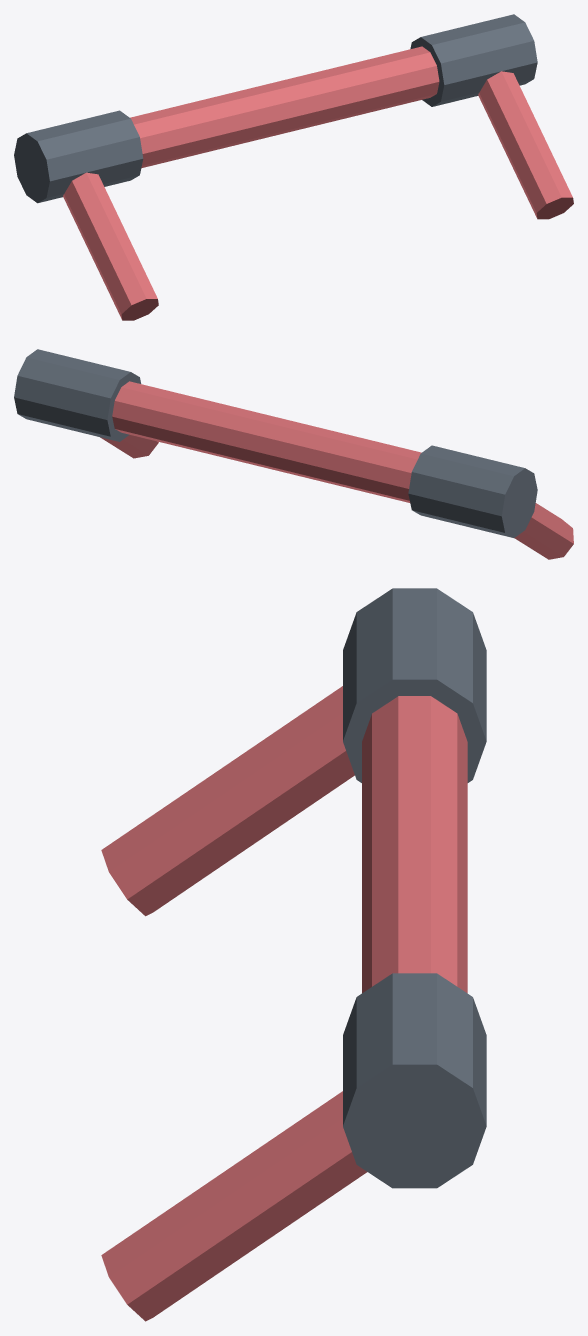
File: cart_handle.glb
The picture shows the model from 3 angles, top to bottom: view 1: azimuth 30°, elevation 25°; view 2: azimuth 150°, elevation 25°; view 3: azimuth 270°, elevation 25°; orthographic projection. The views are drawn at different scales.
Visible parts, largest first — view 1: Upright.-1, Grip.-1; view 2: Upright.-1, Grip.-1; view 3: Upright.-1, Grip.-1.
Boxes of the visible parts, x1,y1,x2,y2 form: Upright.-1: [63, 46, 573, 320]; Grip.-1: [14, 14, 537, 203]; Upright.-1: [100, 381, 573, 559]; Grip.-1: [14, 349, 537, 537]; Upright.-1: [101, 686, 467, 1321]; Grip.-1: [343, 588, 486, 1188].
Bounding box in the file's own units: 0.47 × 0.1329 × 0.1608.
